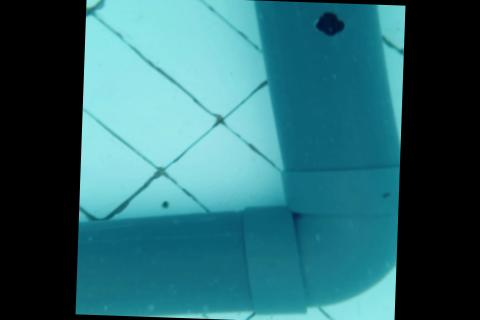kebocoran: (311, 9, 345, 36)
